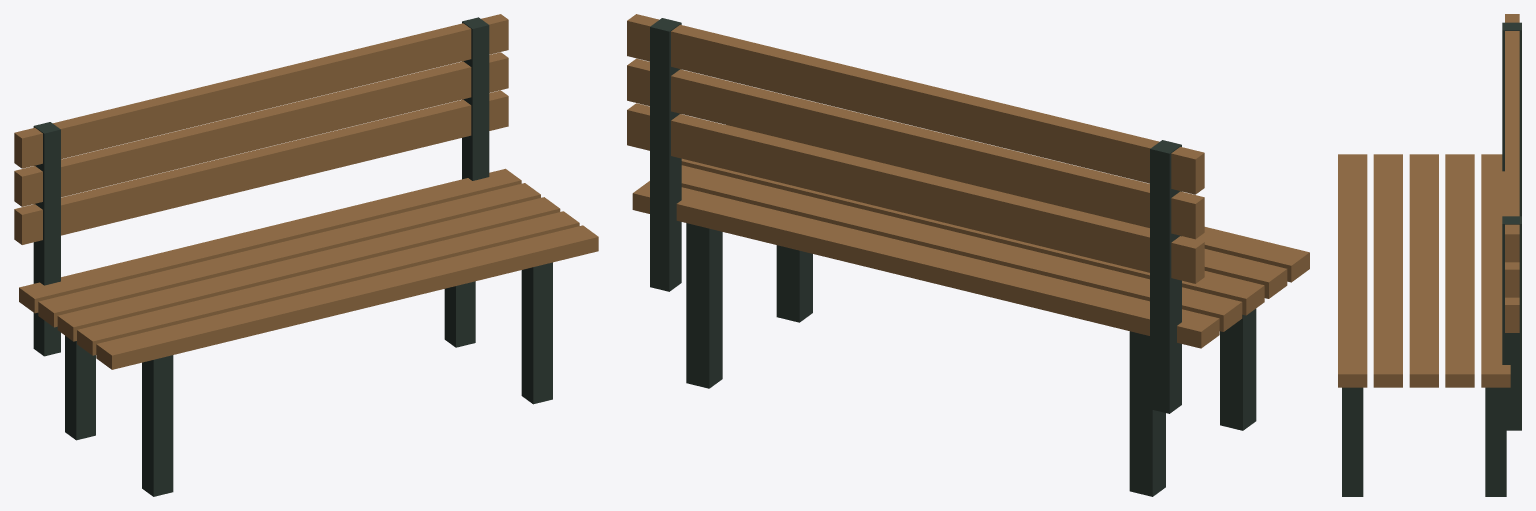
Rendered from bench.glb.
3 renders of one model, left to right at view 1: azimuth 30°, elevation 25°; view 2: azimuth 150°, elevation 25°; view 3: azimuth 270°, elevation 25°, orthographic. The views are drawn at different scales.
Parts seen in each view (by area): view 1: SeatSlat (×5), BackSlat (×3), Leg (×4), BackSupport (×2); view 2: BackSlat (×3), SeatSlat (×5), Leg (×4), BackSupport (×2); view 3: SeatSlat (×5), Leg (×2), BackSlat (×3), BackSupport (×2).
Boxes of the visible parts, box(x1,y1,x2,y2) form: SeatSlat (×5): box(19, 168, 598, 369); BackSlat (×3): box(14, 14, 508, 244); Leg (×4): box(65, 262, 552, 496); BackSupport (×2): box(33, 17, 489, 356); BackSlat (×3): box(627, 14, 1204, 283); SeatSlat (×5): box(632, 125, 1309, 348); Leg (×4): box(686, 223, 1256, 496); BackSupport (×2): box(650, 18, 1181, 413); SeatSlat (×5): box(1338, 154, 1510, 387); Leg (×2): box(1342, 387, 1506, 496); BackSlat (×3): box(1505, 14, 1519, 332); BackSupport (×2): box(1502, 22, 1521, 430).
Bounding box in the file's own units: 1.6 × 0.96 × 0.565.
